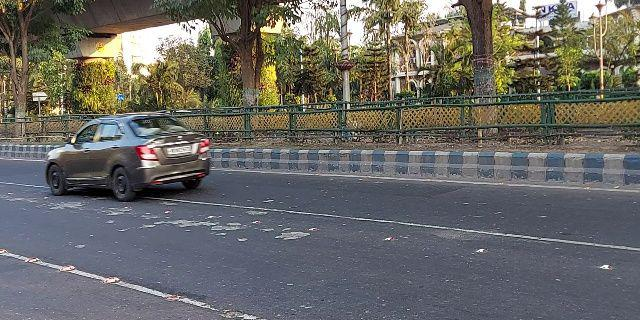Car: (43, 112, 212, 208)
